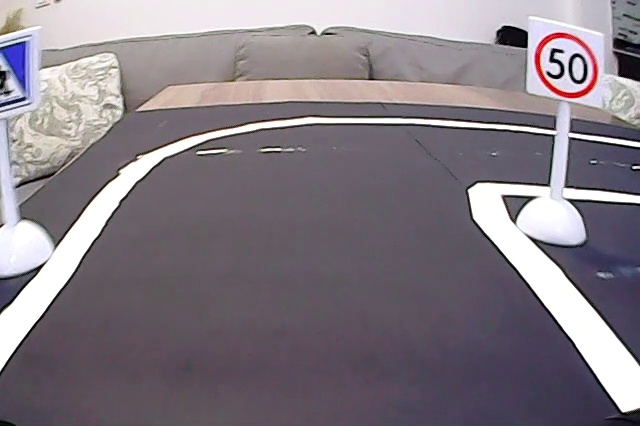speed limit 50: (530, 23, 603, 100)
